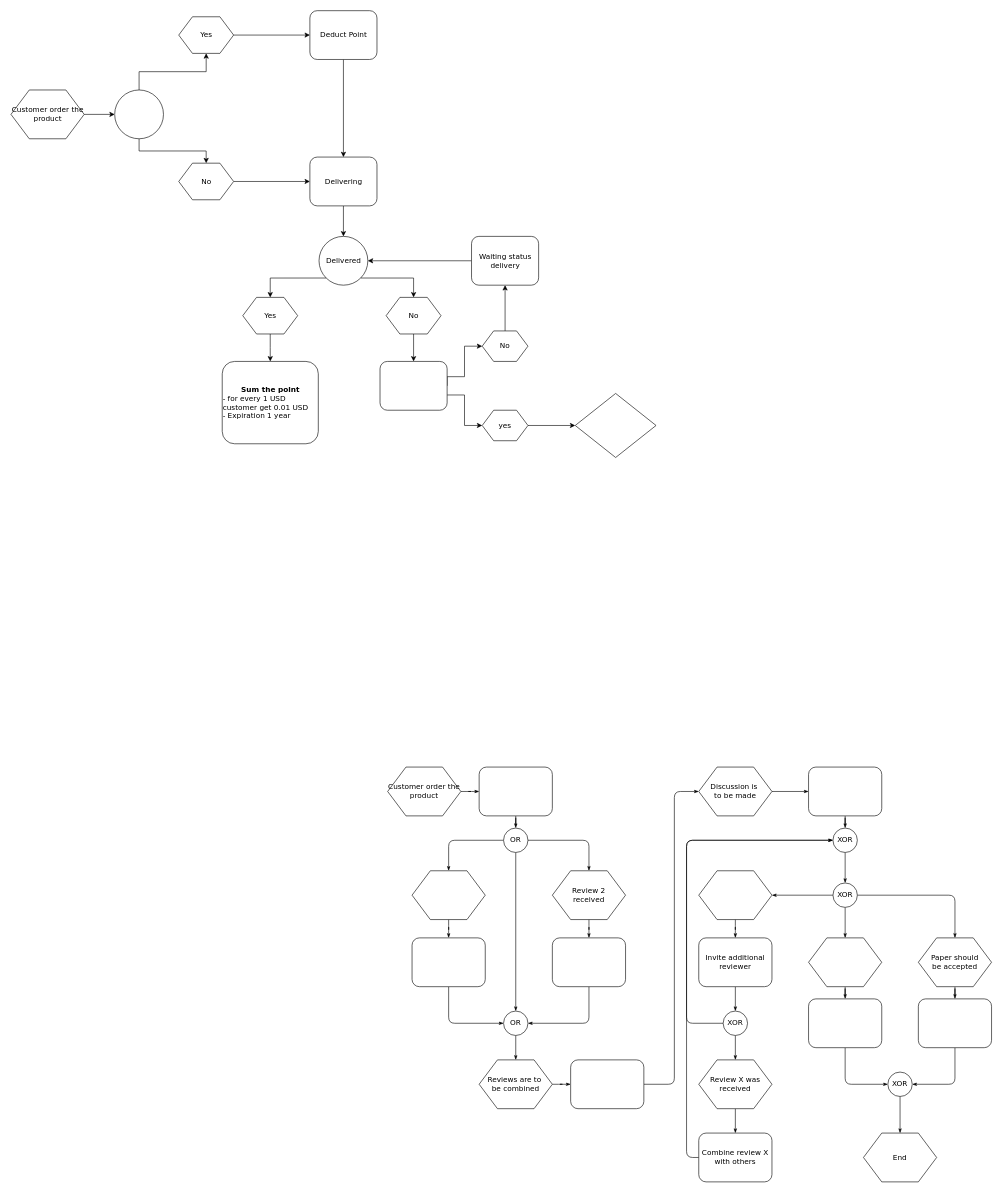
The diagram is 1002 pixels wide and 1193 high, and some of its shapes have lost their labels. The box of each missing label's shape, as (x1, y1, x2, y2) in pixels:
Accept paper: (918, 998, 992, 1048)
Additional review is needed: (698, 870, 772, 920)
Canceled: (379, 361, 447, 410)
Combine reviews: (570, 1059, 644, 1109)
Decide on acceptance: (808, 766, 882, 816)
Delivery status cancel: (575, 393, 656, 458)
Invite reviewers: (479, 766, 552, 816)
Paper should be rejected: (808, 937, 882, 987)
Reject paper: (808, 998, 882, 1048)
Review 1 received: (411, 870, 485, 920)
Store Review 1: (411, 937, 485, 987)
Store Review 2: (552, 937, 626, 987)
Use Point: (114, 89, 163, 139)
